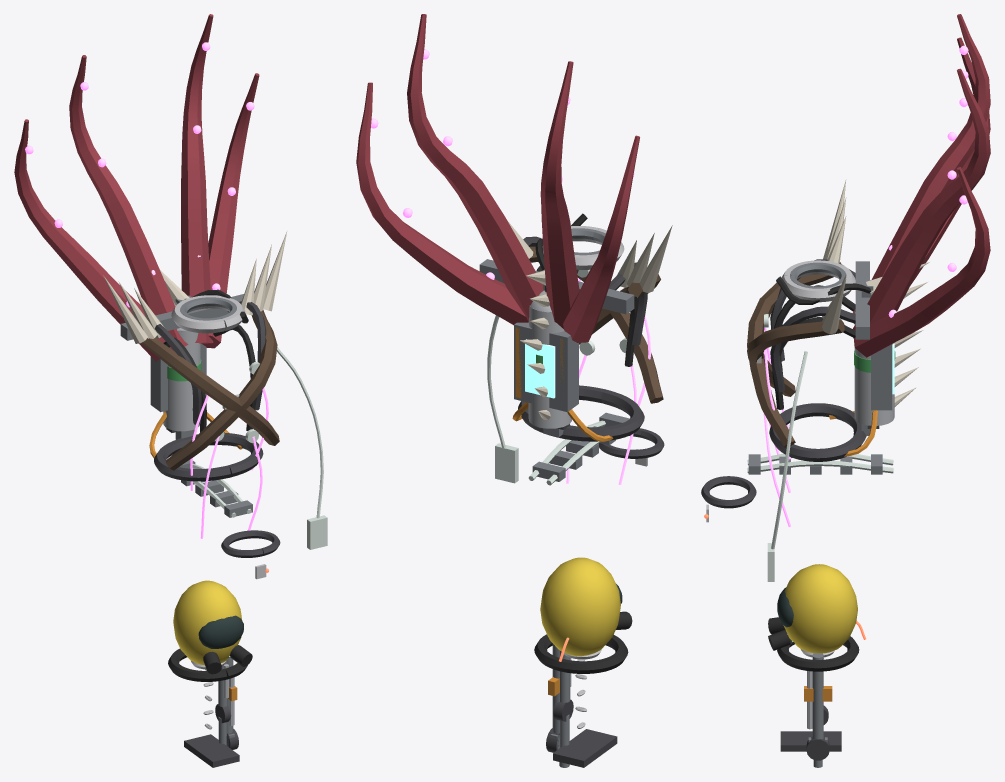
File: labzombie.glb
3 views of the same model, side by side, from view 1: azimuth 30°, elevation 25°; view 2: azimuth 150°, elevation 25°; view 3: azimuth 270°, elevation 25° (orthographic). The views are drawn at different scales.
Parts seen in each view (by area): view 1: pz_tendrils, pz_gear, hazmat_hood, exo_frame, pz_spikes, hazmat_tank, labdog_gear, exo_shin, exo_core, exo_arm, exo_thigh; view 2: pz_tendrils, hazmat_hood, exo_frame, pz_gear, exo_core, labdog_gear, pz_spikes, hazmat_tank, exo_shin, exo_arm, exo_thigh; view 3: pz_tendrils, hazmat_hood, pz_gear, exo_frame, hazmat_tank, labdog_gear, pz_spikes, exo_thigh, exo_core, exo_shin.
Part boxes in pixels (x1,y1,x2,y2): pz_tendrils: (14, 14, 259, 361); pz_gear: (141, 295, 327, 549); hazmat_hood: (168, 580, 252, 681); exo_frame: (120, 294, 266, 481); pz_spikes: (103, 231, 287, 343); hazmat_tank: (163, 289, 256, 432); labdog_gear: (179, 459, 280, 579); exo_shin: (184, 733, 239, 767); exo_core: (150, 343, 206, 412); exo_arm: (215, 660, 231, 745); exo_thigh: (226, 657, 238, 749); pz_tendrils: (356, 14, 639, 342); hazmat_hood: (534, 557, 632, 673); exo_frame: (479, 228, 647, 441); pz_gear: (487, 226, 663, 484); exo_core: (514, 322, 578, 412); labdog_gear: (528, 412, 664, 485); pz_spikes: (507, 220, 672, 419); hazmat_tank: (528, 213, 637, 428); exo_shin: (550, 729, 617, 767); exo_arm: (553, 650, 573, 767); exo_thigh: (546, 643, 560, 752); pz_tendrils: (853, 14, 990, 357); hazmat_hood: (768, 564, 859, 671); pz_gear: (747, 260, 855, 581); exo_frame: (769, 259, 879, 461); hazmat_tank: (772, 276, 895, 425); labdog_gear: (701, 453, 893, 522); pz_spikes: (822, 179, 929, 406); exo_thigh: (804, 654, 832, 760); exo_core: (871, 343, 894, 410); exo_shin: (780, 731, 841, 751).
Bounding box in the file's own units: 1.22 × 3.4 × 1.23.
